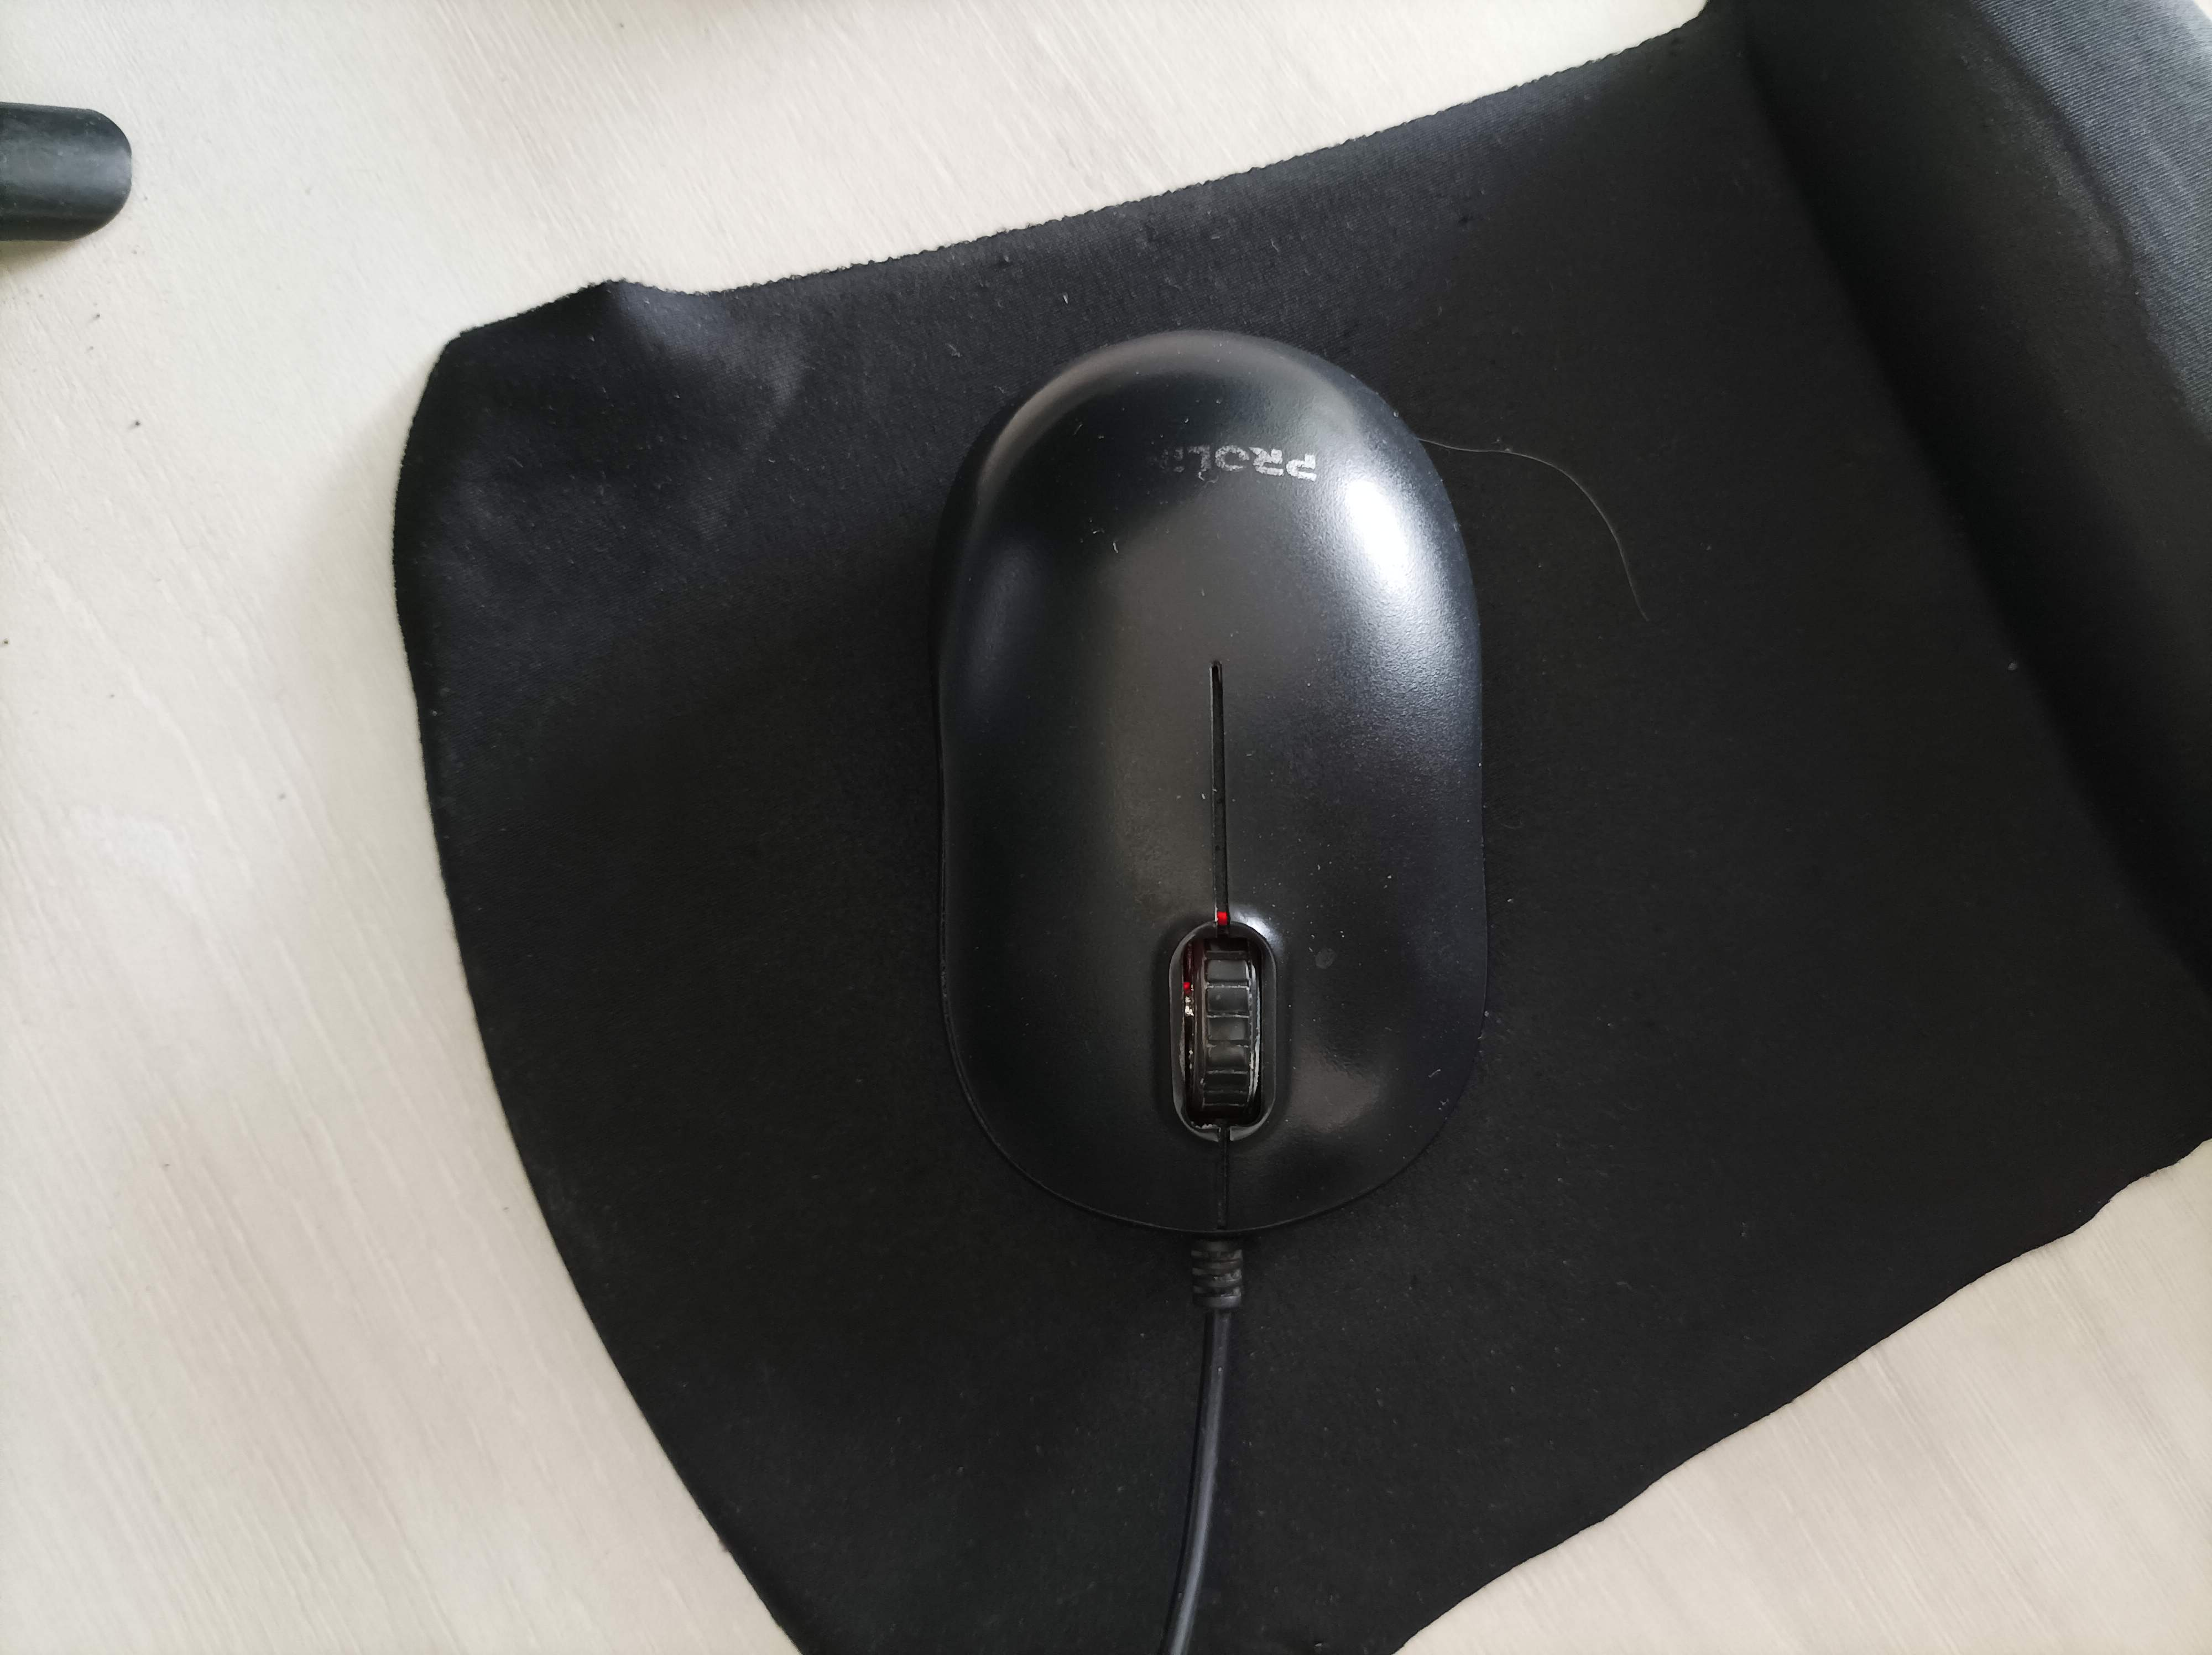mouse: (911, 323, 1507, 1292)
